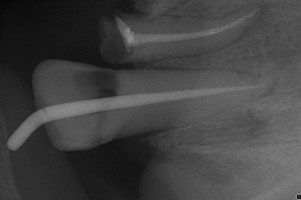Furcation Involvement: (232, 0, 272, 43), (254, 77, 279, 101)
